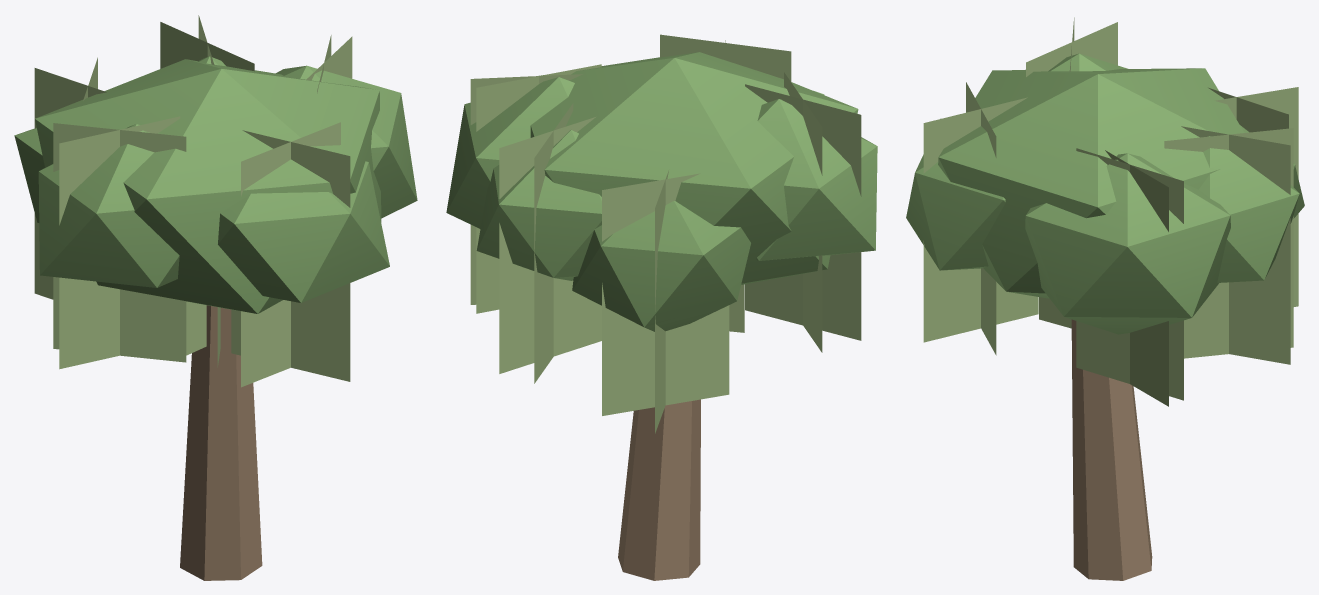
The model's file is tree_willow_1.glb.
The picture shows the model from 3 angles, left to right: view 1: azimuth 30°, elevation 25°; view 2: azimuth 150°, elevation 25°; view 3: azimuth 270°, elevation 25°; orthographic projection. The views are drawn at different scales.
Parts seen in each view (by area): view 1: copa, hebras, tronco; view 2: copa, hebras, tronco; view 3: copa, hebras, tronco.
Part boxes in pixels (box(x1,y1,x2,y2)): copa: box(14, 56, 417, 313); hebras: box(34, 15, 352, 387); tronco: box(180, 305, 262, 580); copa: box(446, 52, 877, 331); hebras: box(470, 34, 861, 433); tronco: box(618, 399, 700, 580); copa: box(906, 53, 1304, 334); hebras: box(923, 17, 1298, 406); tronco: box(1071, 319, 1152, 580).
Size of the model in its own units: 1.79 by 2.23 by 1.65.
